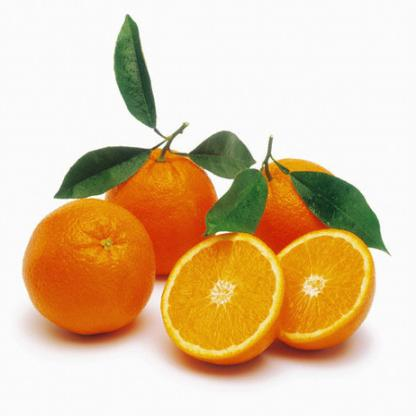orange: (18, 199, 155, 342), (236, 152, 373, 283), (96, 147, 219, 286)
